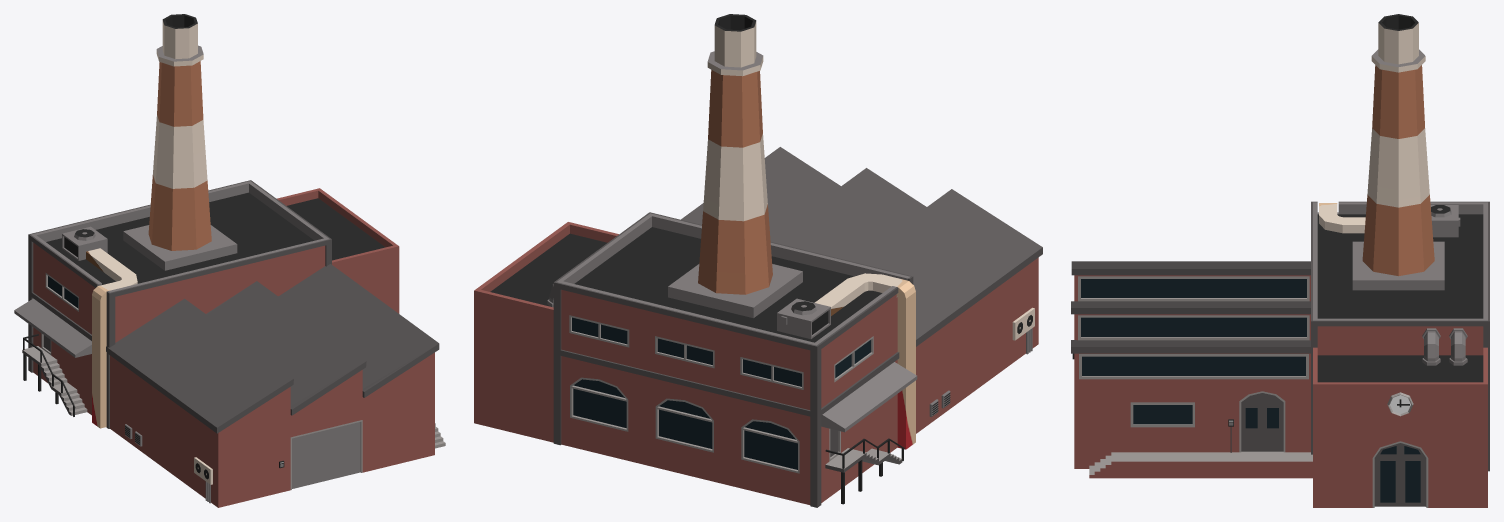
File: industry-factory-old.glb
3 views of the same model, side by side, from view 1: azimuth 30°, elevation 25°; view 2: azimuth 150°, elevation 25°; view 3: azimuth 270°, elevation 25° (orthographic). The views are drawn at different scales.
Parts seen in each view (by area): view 1: industry-factory-old; view 2: industry-factory-old; view 3: industry-factory-old.
Part boxes in pixels (bbox=[...]): industry-factory-old: bbox=[14, 14, 445, 507]; industry-factory-old: bbox=[474, 14, 1042, 507]; industry-factory-old: bbox=[1071, 14, 1489, 507].
Size of the model in its own units: 21.55 by 23.3 by 22.75.
1 material, 1 textured.
